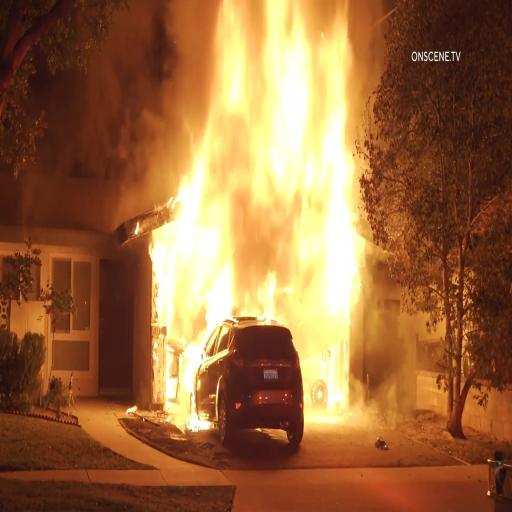fire: (265, 8, 355, 317), (204, 11, 262, 314), (154, 231, 196, 423), (172, 103, 204, 225), (304, 320, 347, 407)
smoke: (53, 77, 167, 195), (123, 5, 200, 74), (367, 314, 416, 410)
